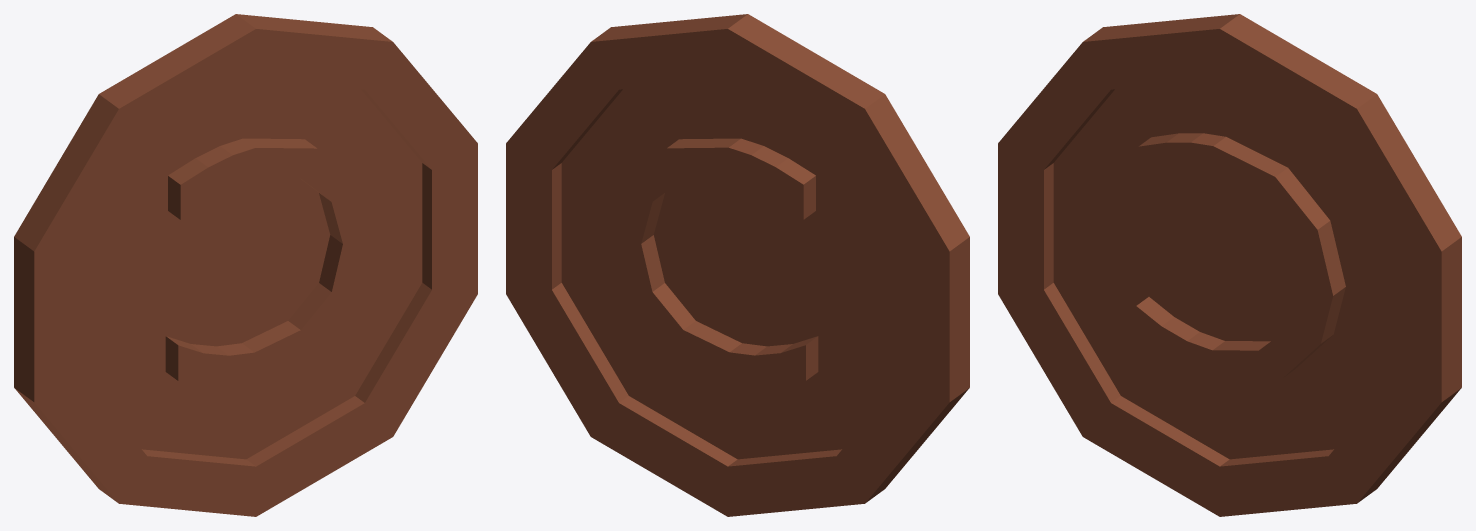
Rendered from Copper Coin.glb.
3 renders of one model, left to right at view 1: azimuth 30°, elevation 25°; view 2: azimuth 150°, elevation 25°; view 3: azimuth 330°, elevation 25°, orthographic.
Visible parts, largest first — view 1: CooperCoin_Circle.001; view 2: CooperCoin_Circle.001; view 3: CooperCoin_Circle.001.
Boxes of the visible parts, <box> form: CooperCoin_Circle.001: <box>14,14,477,516</box>; CooperCoin_Circle.001: <box>506,14,969,516</box>; CooperCoin_Circle.001: <box>998,14,1461,516</box>.
Size of the model in its own units: 6.37 by 6.7 by 0.6442.
